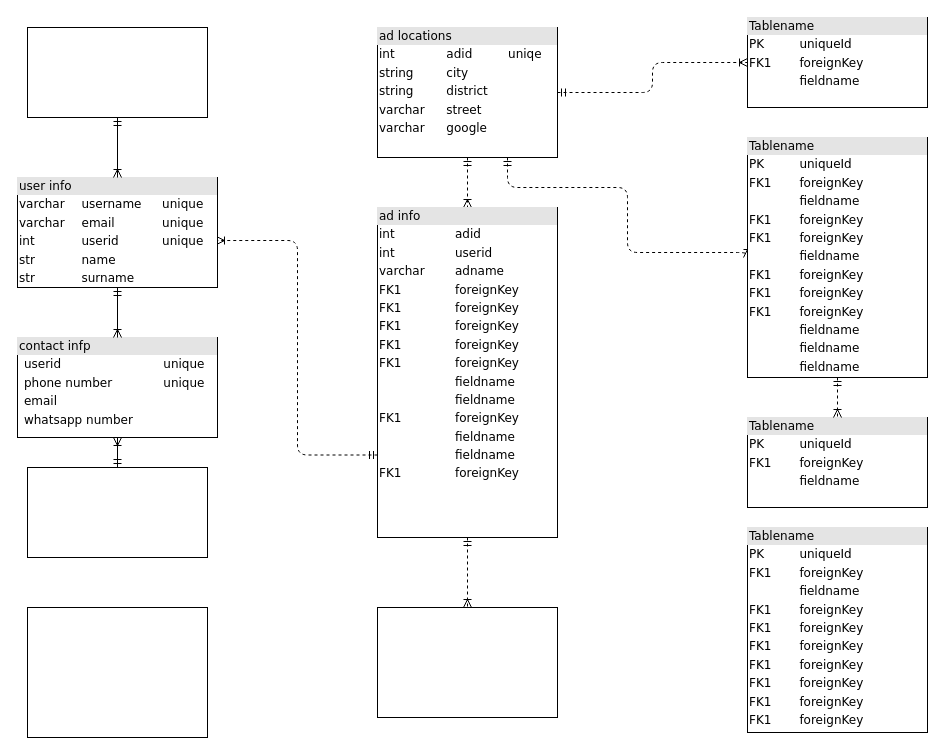
Some shapes in this 945 by 755 pixel diagram are drawn without their labels. The centre of each missing label's shape, as x and y in pixels:
Login VARCHAR username unique VARCHAR email unique VARCHAR password: point 117,72
Tablename PK uniqueId FK1 foreignKey fieldname fieldname: point 117,512
Tablename PK uniqueId FK1 foreignKey fieldname fieldname fieldname fieldname: point 117,672
Tablename PK uniqueId FK1 foreignKey fieldname fieldname FK1 foreignKey: point 467,662
